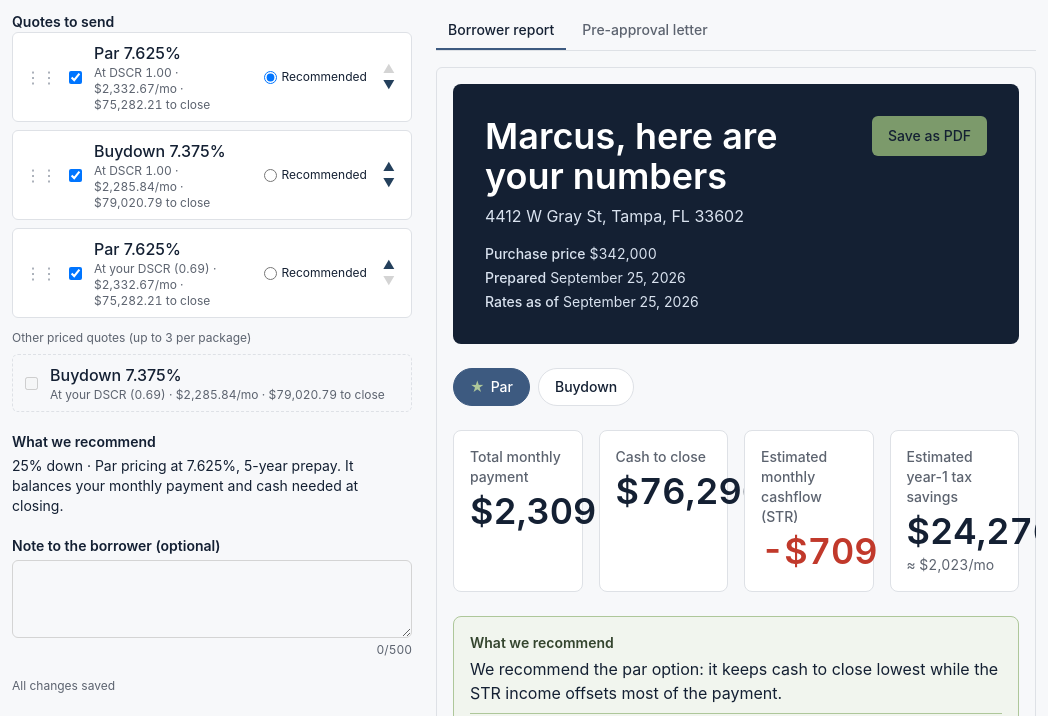
Scenario: Send-tab saves (PR #22 minor, T13) › a failed save is not silently dropped by a later successful save: the later PUT carries it
Click the checkbox named "Include Par 7.625% (At your DSCR (0.69))".
click(76, 273)  # box [69,266,82,280]
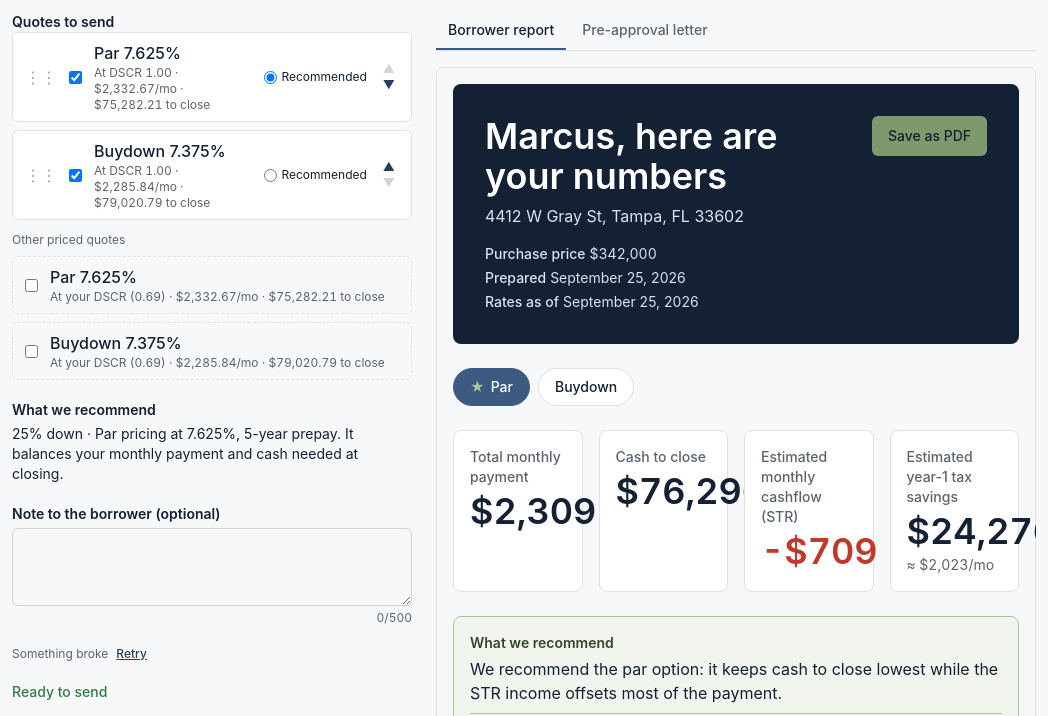
Expected: the text with test id "save-status" reads "Something broke", [12,646,108,661]
Type "Call me first." into the text box labelled "Note to the borrower (optional)".
click(212, 567); type("Call me first.")  # box [12,528,412,606]
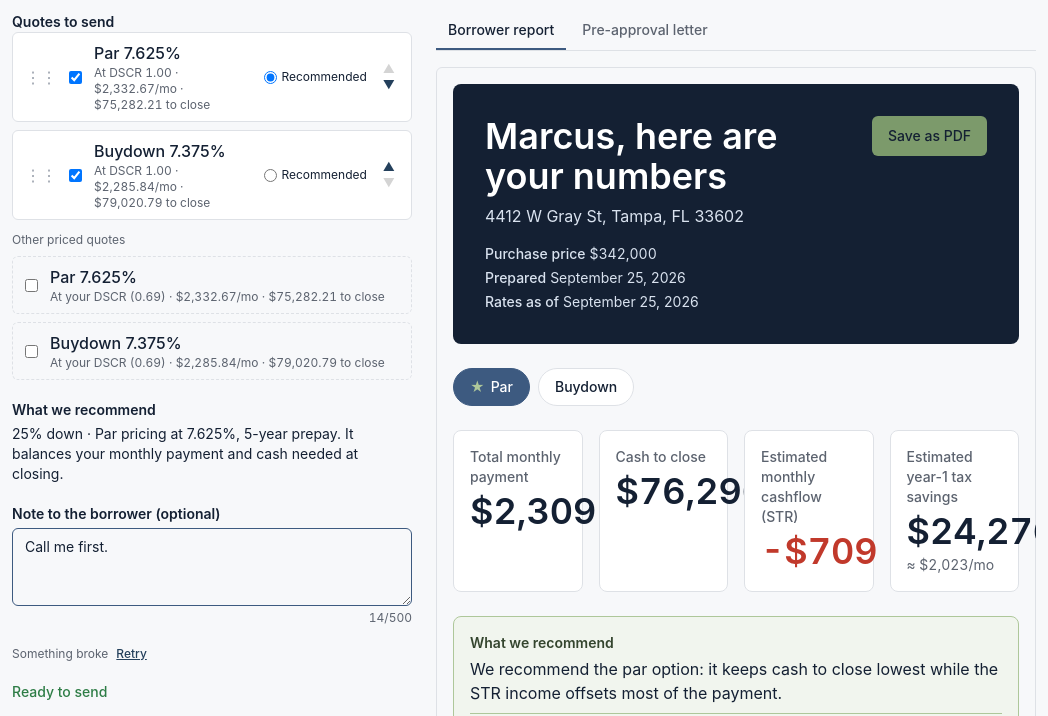
Press Tab
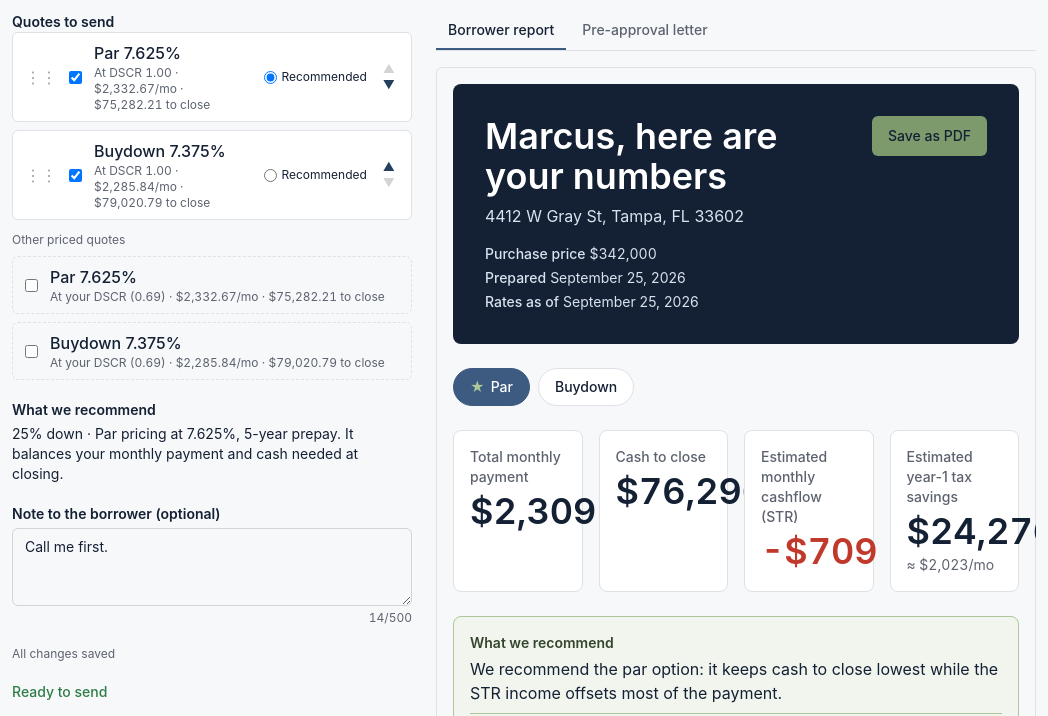
Expected: the number of list items with test id "selected-quote" is 2, [12,32,412,122]; [12,130,412,220]
Expected: the text with test id "save-status" reads "All changes saved", [12,646,115,661]
